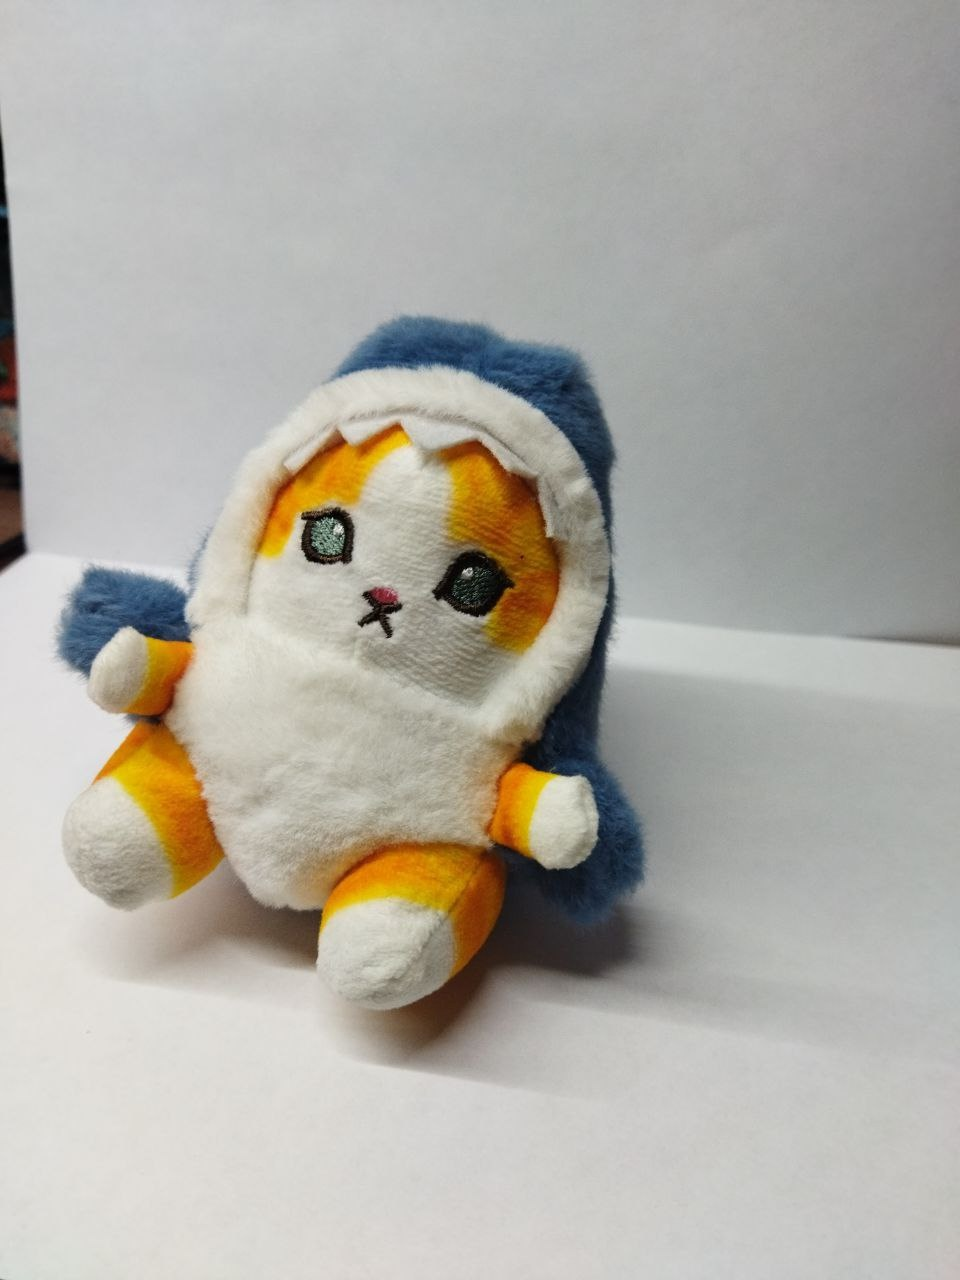Snark Cat: (44, 315, 643, 1017)
